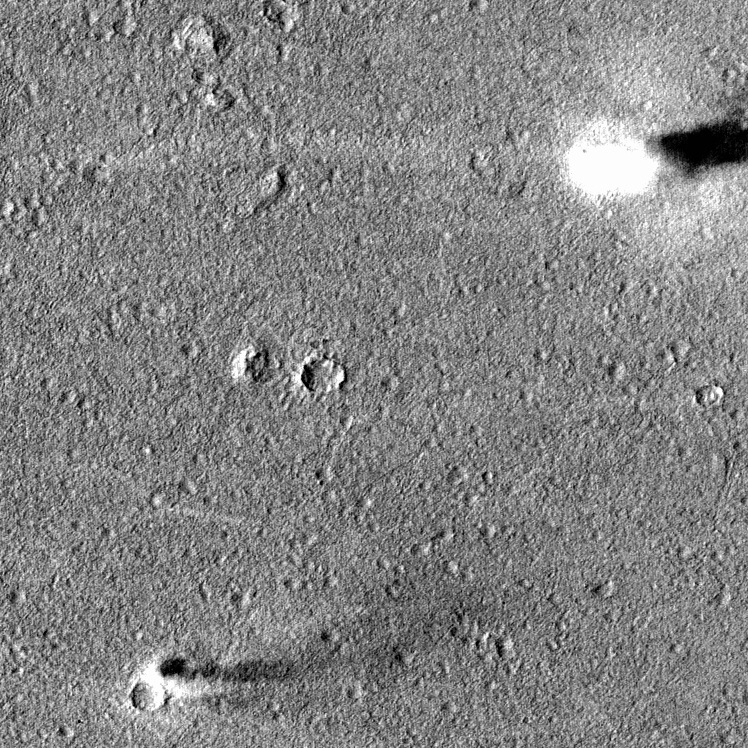dust_devil: (563, 110, 748, 201), (137, 648, 296, 704)
